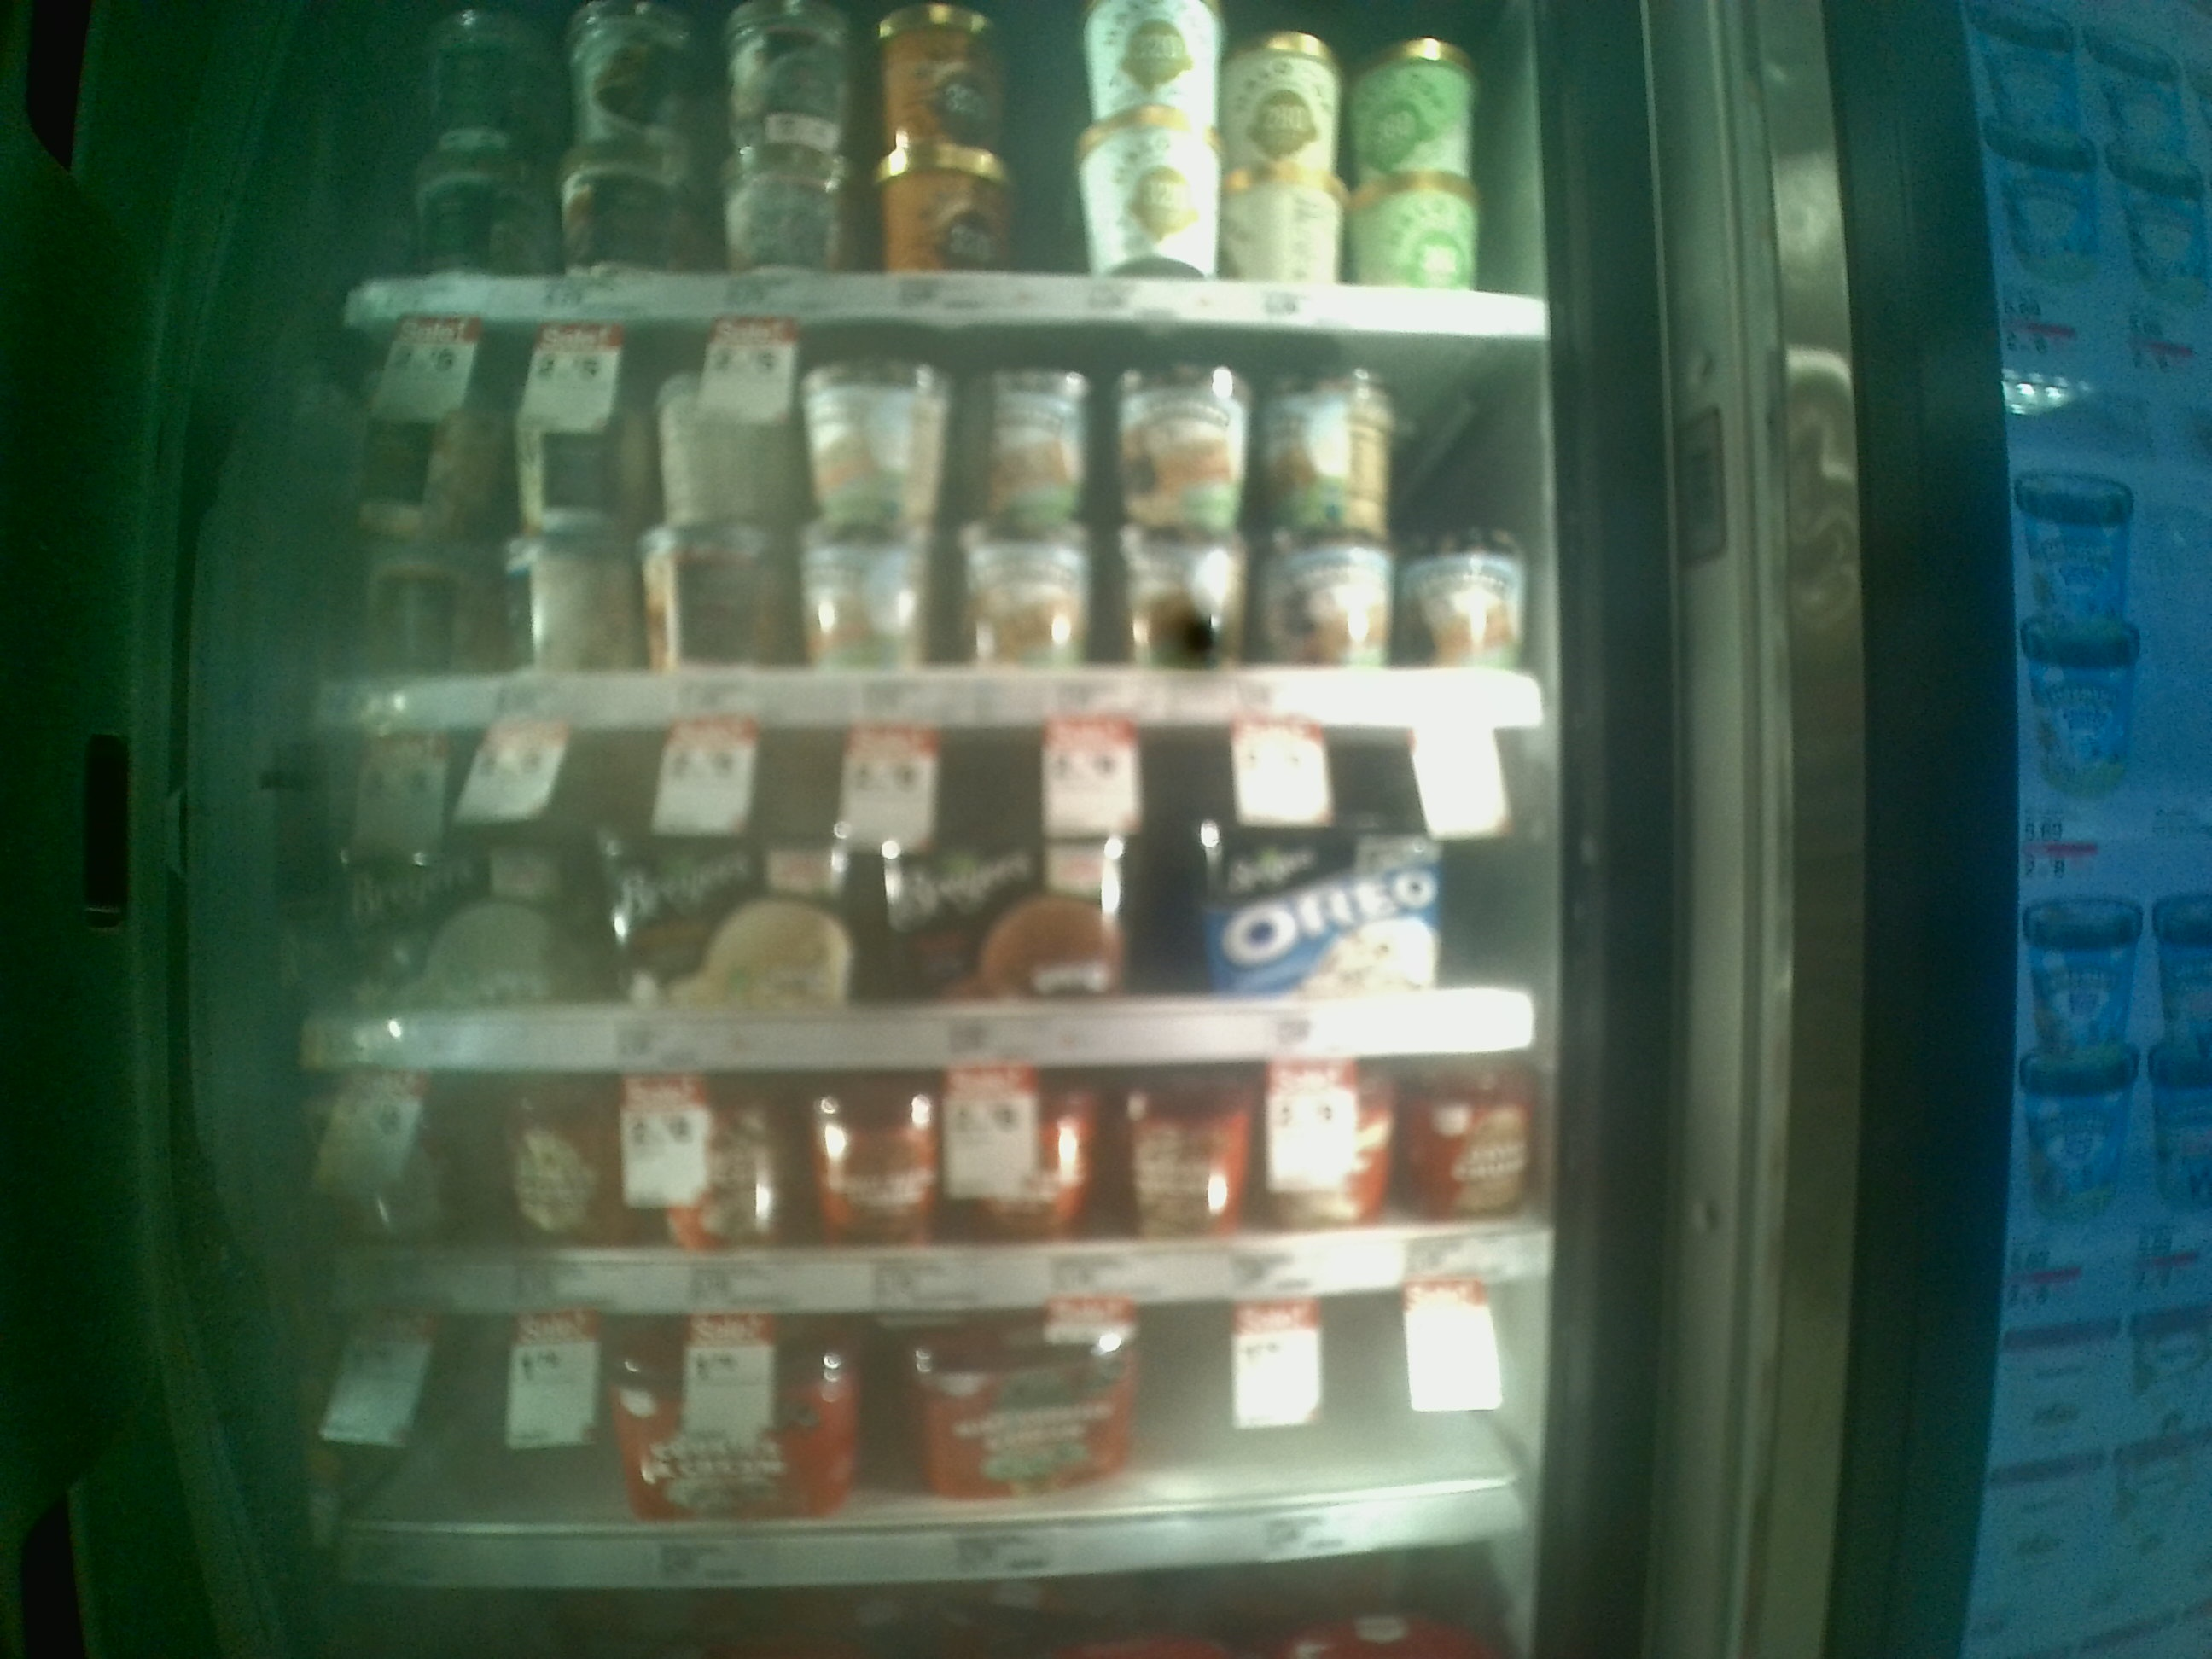shelf: (320, 312, 1559, 728), (319, 732, 1569, 1060), (303, 1310, 1578, 1593), (314, 1060, 1559, 1314)
